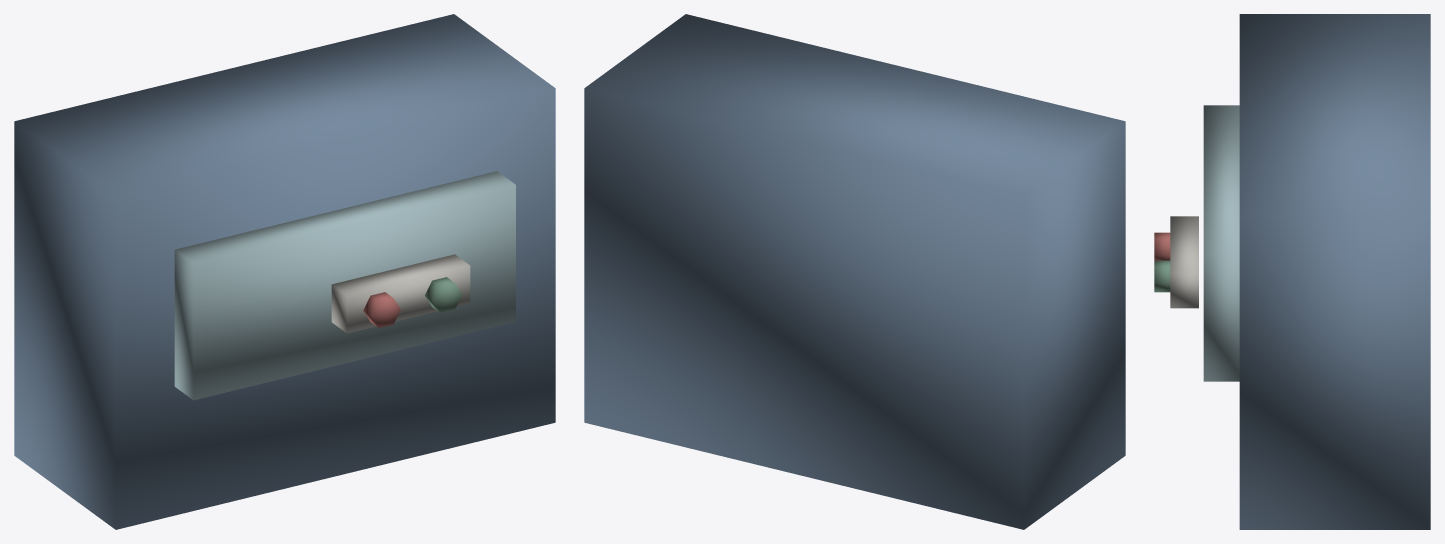
File: price_checker__reinforced.glb
The picture shows the model from 3 angles, left to right: view 1: azimuth 30°, elevation 25°; view 2: azimuth 150°, elevation 25°; view 3: azimuth 270°, elevation 25°; orthographic projection. The views are drawn at different scales.
Visible parts, largest first — view 1: world; view 2: world; view 3: world.
Part boxes in pixels (<box>): world: <box>14,14,555,529</box>; world: <box>584,14,1125,529</box>; world: <box>1154,14,1430,529</box>.
Bounding box in the file's own units: 0.309 × 0.2244 × 0.1787.
